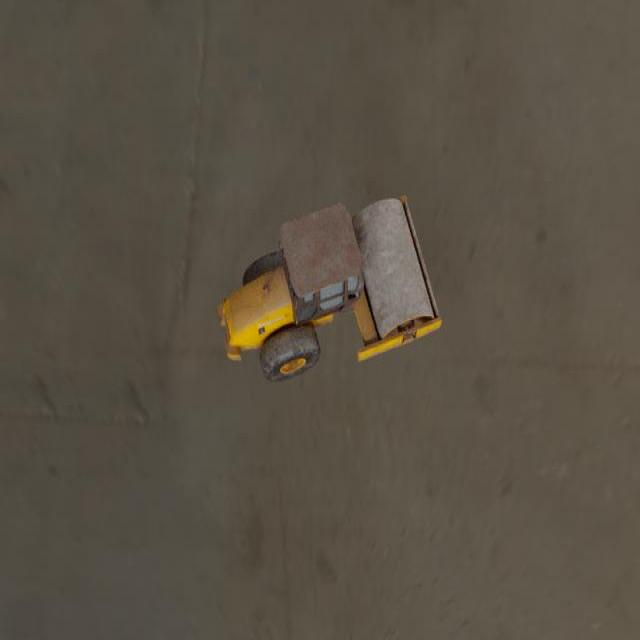Roller: (216, 195, 441, 381)
